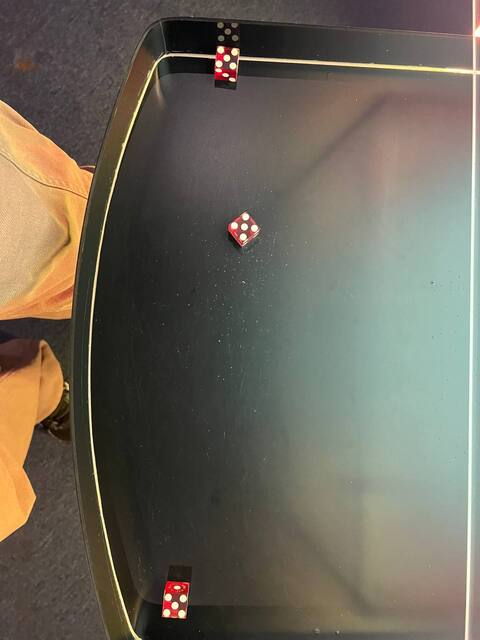five: (224, 209, 263, 248), (159, 589, 192, 621), (211, 43, 242, 74)
